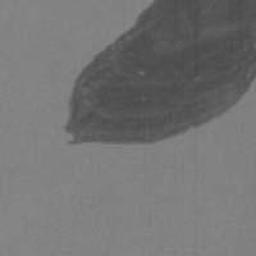Oil spot: (61, 0, 256, 147)
